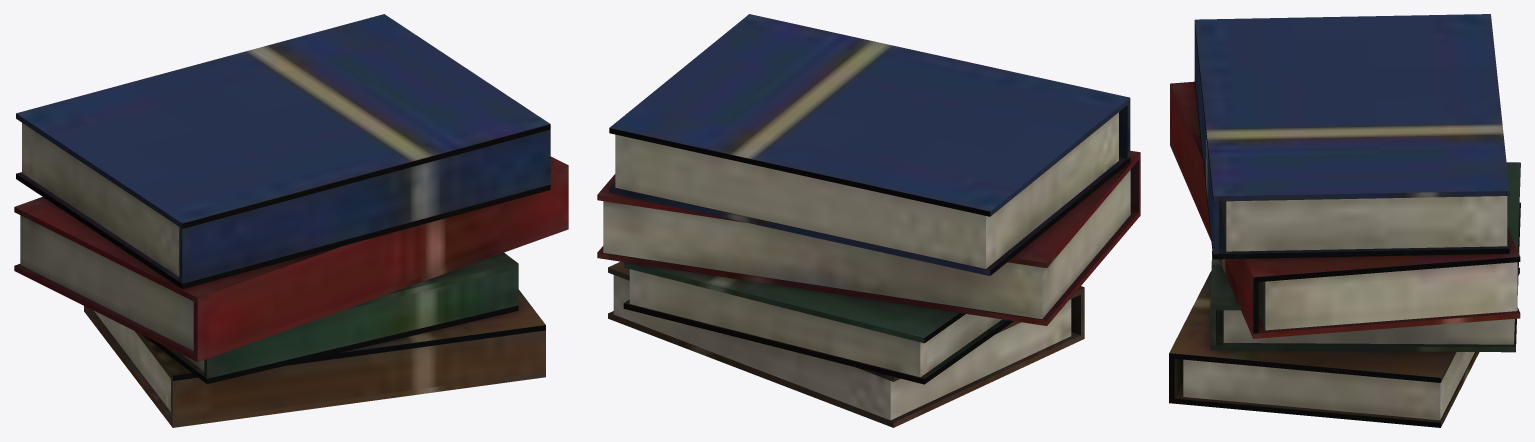
The model's file is book_stack_lod1_web.glb.
3 renders of one model, left to right at view 1: azimuth 30°, elevation 25°; view 2: azimuth 150°, elevation 25°; view 3: azimuth 270°, elevation 25°, orthographic. The views are drawn at different scales.
Parts seen in each view (by area): view 1: BookStack_Body; view 2: BookStack_Body; view 3: BookStack_Body.
Boxes of the visible parts, x1,y1,x2,y2 form: BookStack_Body: [14, 14, 568, 427]; BookStack_Body: [597, 14, 1140, 427]; BookStack_Body: [1169, 14, 1520, 427].
Bounding box in the file's own units: 0.2687 × 0.1285 × 0.1863.
1 material, 1 textured.
